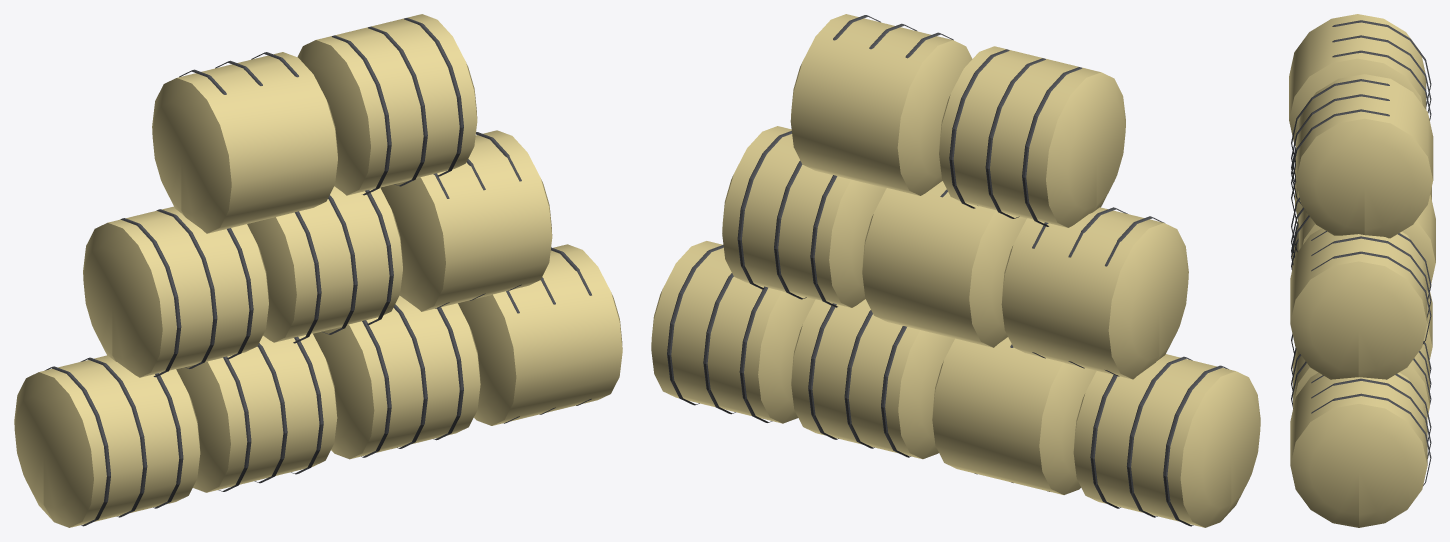
Rendered from arable-fields-and-farm-machinery-round-bale-stack-0c8576fb__16892.glb.
The picture shows the model from 3 angles, left to right: view 1: azimuth 30°, elevation 25°; view 2: azimuth 150°, elevation 25°; view 3: azimuth 270°, elevation 25°; orthographic projection. The views are drawn at different scales.
Visible parts, largest first — view 1: round-bale-stack; view 2: round-bale-stack; view 3: round-bale-stack.
Part boxes in pixels (left/top/right/bottom): round-bale-stack: left=14, top=14, right=622, bottom=527; round-bale-stack: left=651, top=14, right=1260, bottom=527; round-bale-stack: left=1289, top=14, right=1435, bottom=527.
Size of the model in its own units: 5.16 by 3.69 by 1.39.
